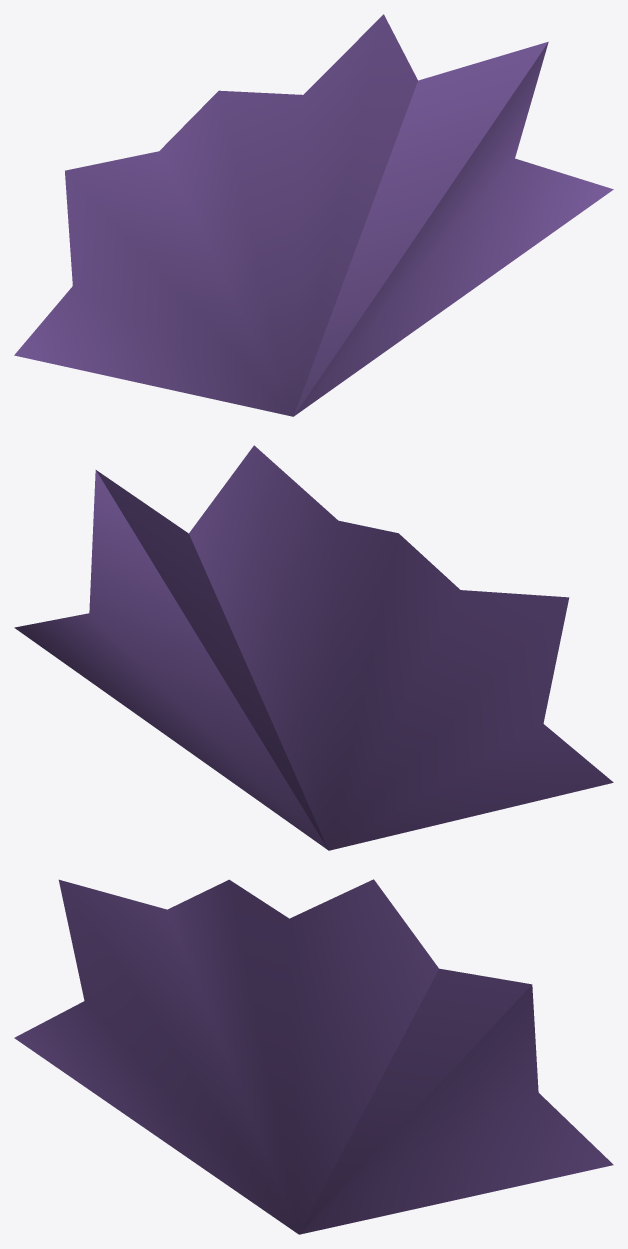
File: coral_fan.glb
3 renders of one model, top to bottom at view 1: azimuth 30°, elevation 25°; view 2: azimuth 150°, elevation 25°; view 3: azimuth 330°, elevation 25°, orthographic.
Visible parts, largest first — view 1: coral_fan; view 2: coral_fan; view 3: coral_fan.
Boxes of the visible parts, bbox=[...] form: coral_fan: bbox=[14, 14, 613, 416]; coral_fan: bbox=[14, 445, 613, 850]; coral_fan: bbox=[14, 879, 613, 1234].
Size of the model in its own units: 1.51 by 0.9256 by 0.0908.
